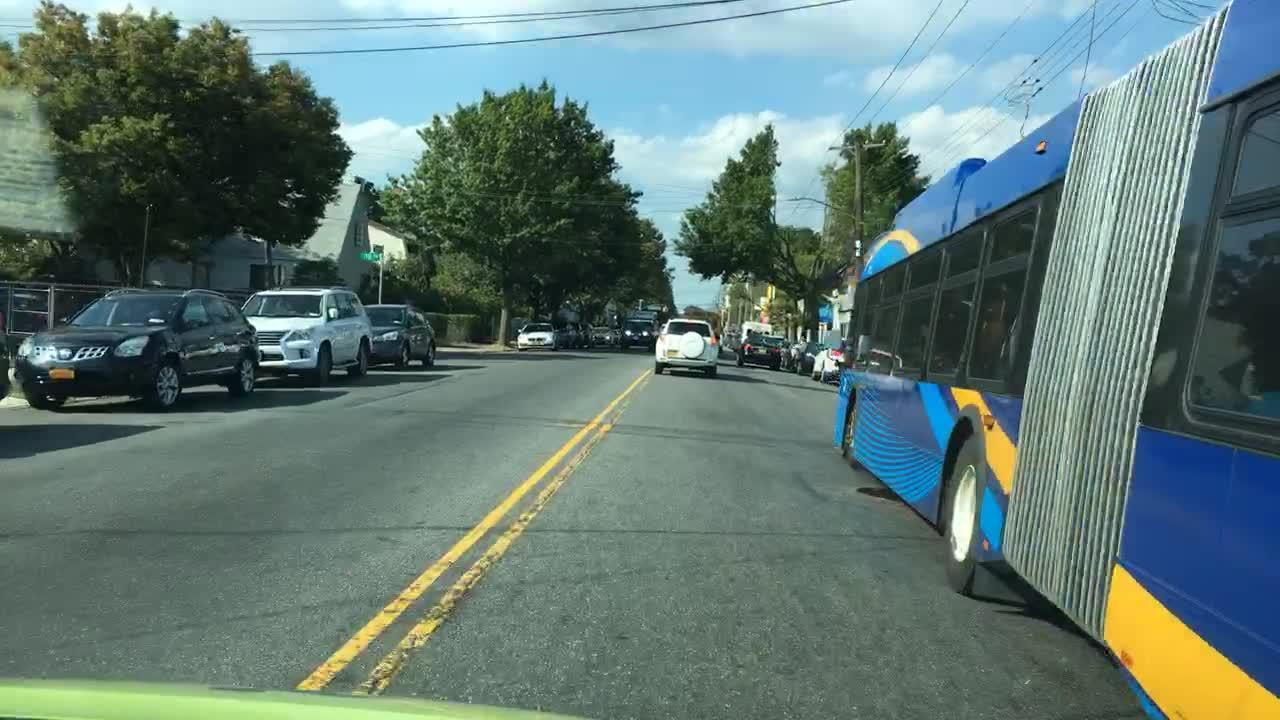Nissan: (53, 342, 75, 361)
